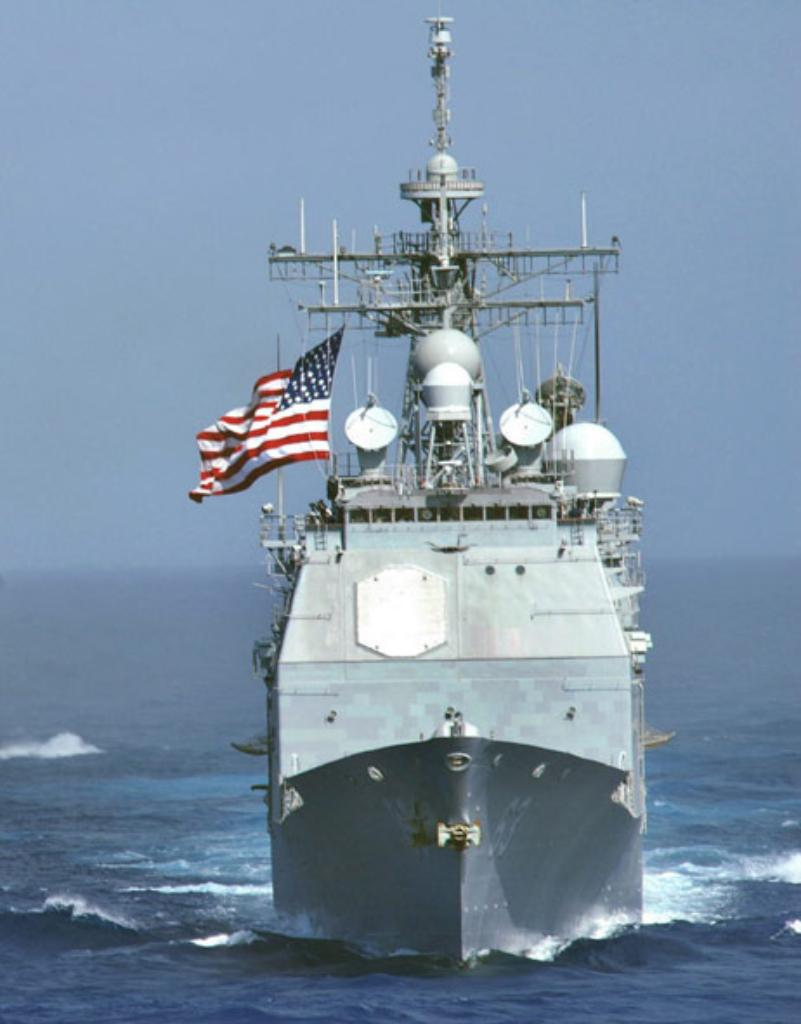Warship: (202, 5, 692, 963)
